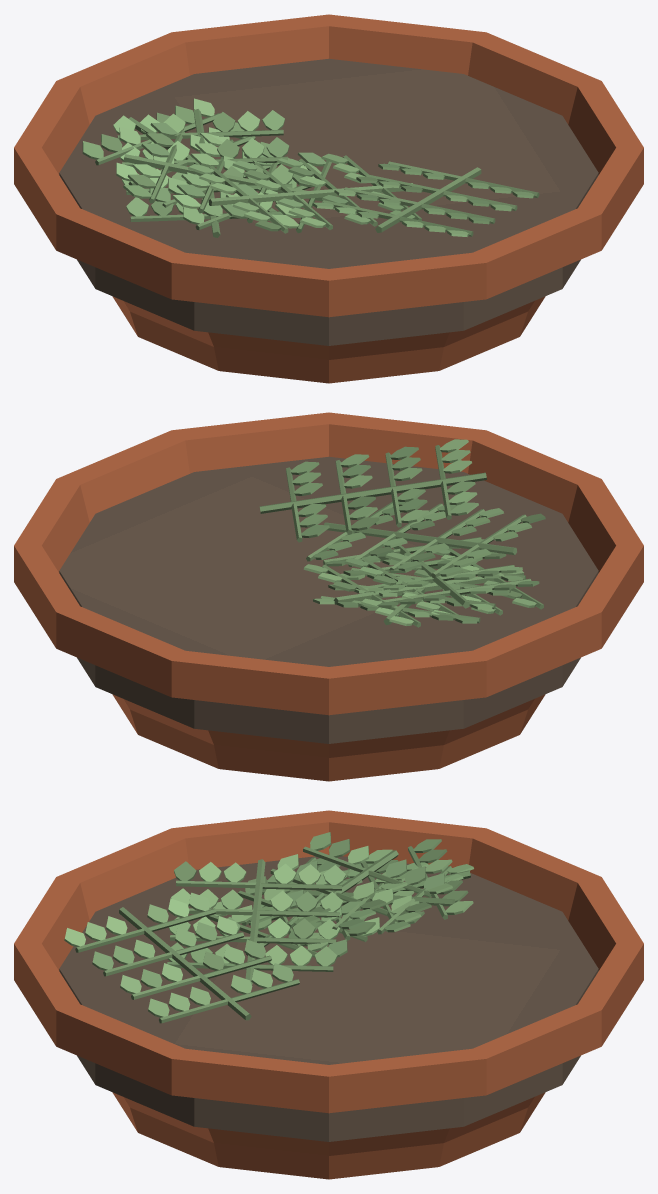
The model's file is moss-cupressiforme.glb.
3 views of the same model, one above another, from view 1: azimuth 30°, elevation 25°; view 2: azimuth 150°, elevation 25°; view 3: azimuth 270°, elevation 25° (orthographic).
Visible parts, largest first — view 1: moss-cupressiforme/review-terra-vessel, moss-cupressiforme/review-rooted-soil, moss-cupressiforme/moss-axis-100, moss-cupressiforme/moss-axis-133, moss-cupressiforme/moss-axis-067; view 2: moss-cupressiforme/review-terra-vessel, moss-cupressiforme/review-rooted-soil, moss-cupressiforme/moss-axis-133, moss-cupressiforme/moss-axis-100, moss-cupressiforme/moss-axis-001; view 3: moss-cupressiforme/review-terra-vessel, moss-cupressiforme/review-rooted-soil, moss-cupressiforme/moss-axis-133, moss-cupressiforme/moss-axis-100, moss-cupressiforme/moss-axis-067.
Part boxes in pixels (box(x1,y1,x2,y2)): moss-cupressiforme/review-terra-vessel: box(14, 14, 643, 383); moss-cupressiforme/review-rooted-soil: box(59, 58, 598, 345); moss-cupressiforme/moss-axis-100: box(208, 183, 412, 205); moss-cupressiforme/moss-axis-133: box(375, 167, 481, 232); moss-cupressiforme/moss-axis-067: box(123, 154, 347, 204); moss-cupressiforme/review-terra-vessel: box(14, 412, 643, 781); moss-cupressiforme/review-rooted-soil: box(59, 456, 598, 743); moss-cupressiforme/moss-axis-133: box(259, 472, 486, 513); moss-cupressiforme/moss-axis-100: box(324, 522, 516, 555); moss-cupressiforme/moss-axis-001: box(334, 570, 523, 604); moss-cupressiforme/review-terra-vessel: box(14, 810, 643, 1179); moss-cupressiforme/review-rooted-soil: box(59, 854, 598, 1141); moss-cupressiforme/moss-axis-133: box(119, 907, 251, 1020); moss-cupressiforme/moss-axis-100: box(245, 859, 265, 985); moss-cupressiforme/moss-axis-067: box(246, 850, 398, 955).
Bounding box in the file's own units: 0.25 × 0.0677 × 0.25.
Materials: 3 (3 with a texture image).
